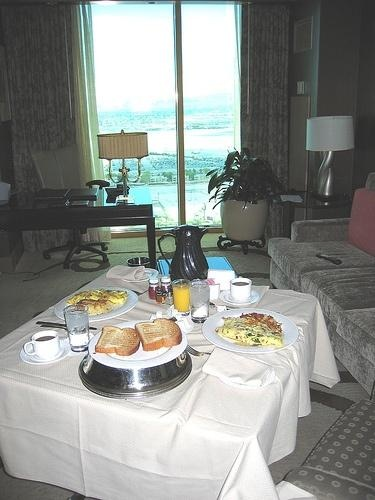diningtable: (4, 262, 328, 500)
pottedplant: (213, 150, 280, 252)
sofa: (266, 173, 375, 398)
